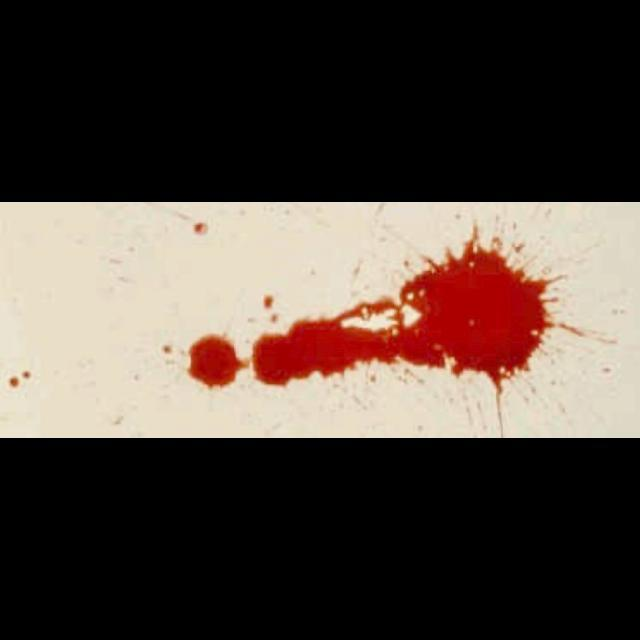blood: (252, 225, 558, 401), (186, 333, 250, 389)
